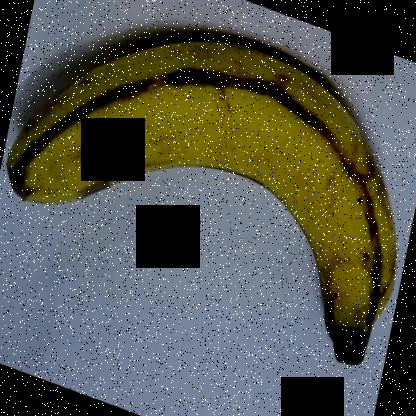ripe: (1, 35, 408, 382)
